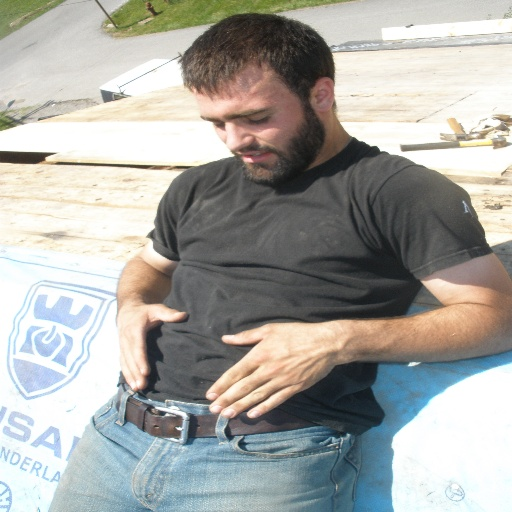hand: (210, 309, 371, 421), (112, 302, 189, 393)
